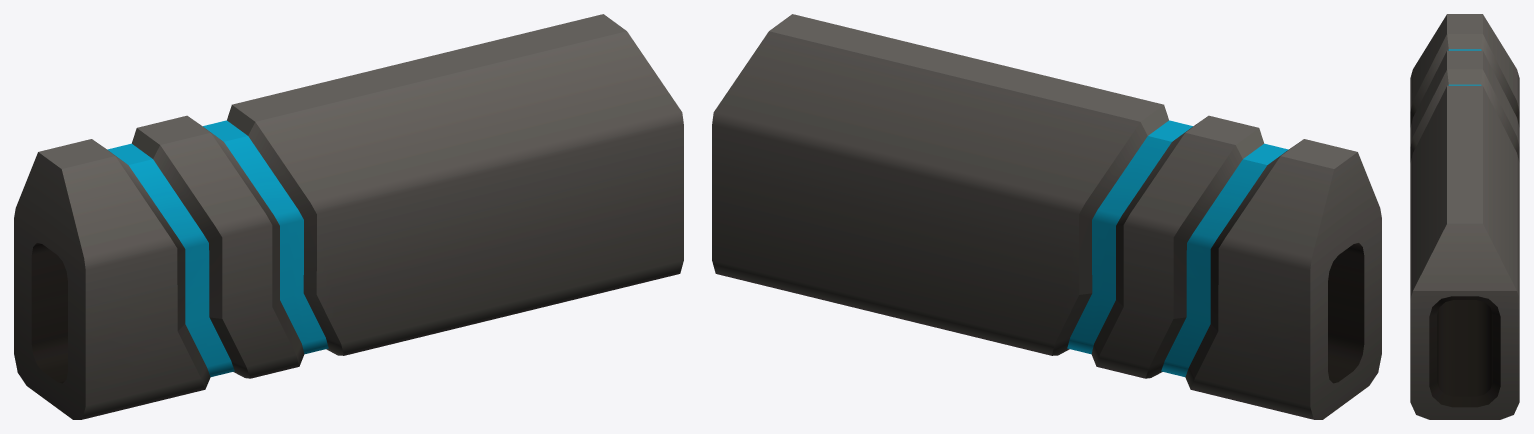
File: Muzzle_Caliber1_06.fbx
The picture shows the model from 3 angles, left to right: view 1: azimuth 30°, elevation 25°; view 2: azimuth 150°, elevation 25°; view 3: azimuth 270°, elevation 25°; orthographic projection. The views are drawn at different scales.
Visible parts, largest first — view 1: Muzzle_Caliber1_06; view 2: Muzzle_Caliber1_06; view 3: Muzzle_Caliber1_06.
Part boxes in pixels (x1,y1,x2,y2): Muzzle_Caliber1_06: [14, 14, 683, 419]; Muzzle_Caliber1_06: [712, 14, 1381, 419]; Muzzle_Caliber1_06: [1410, 14, 1519, 419].
Bounding box in the file's own units: 16.54 × 6.4 × 3.44.
